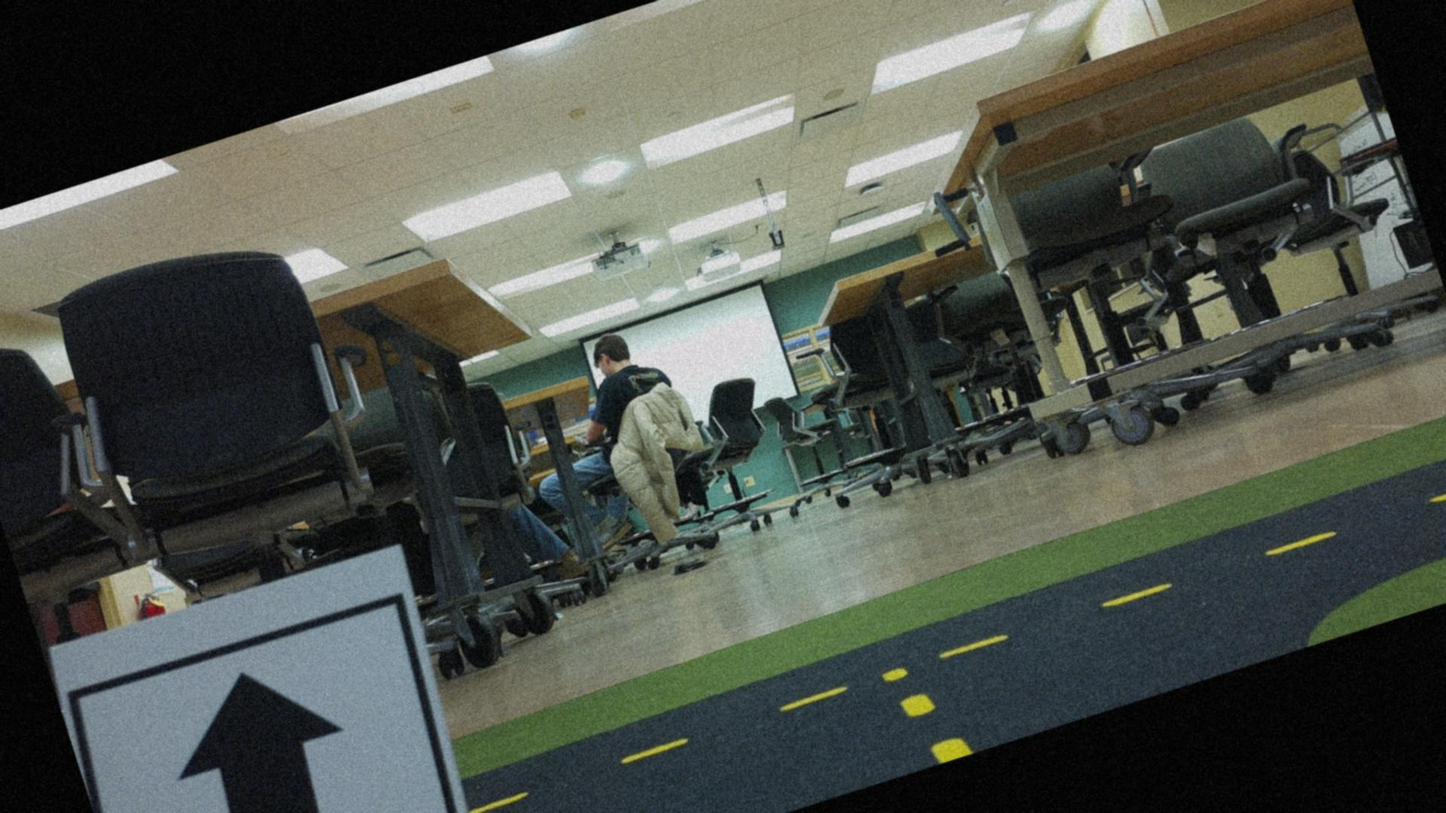gostraight: (47, 555, 485, 812)
yellowline: (463, 471, 1445, 812), (882, 647, 972, 772)
